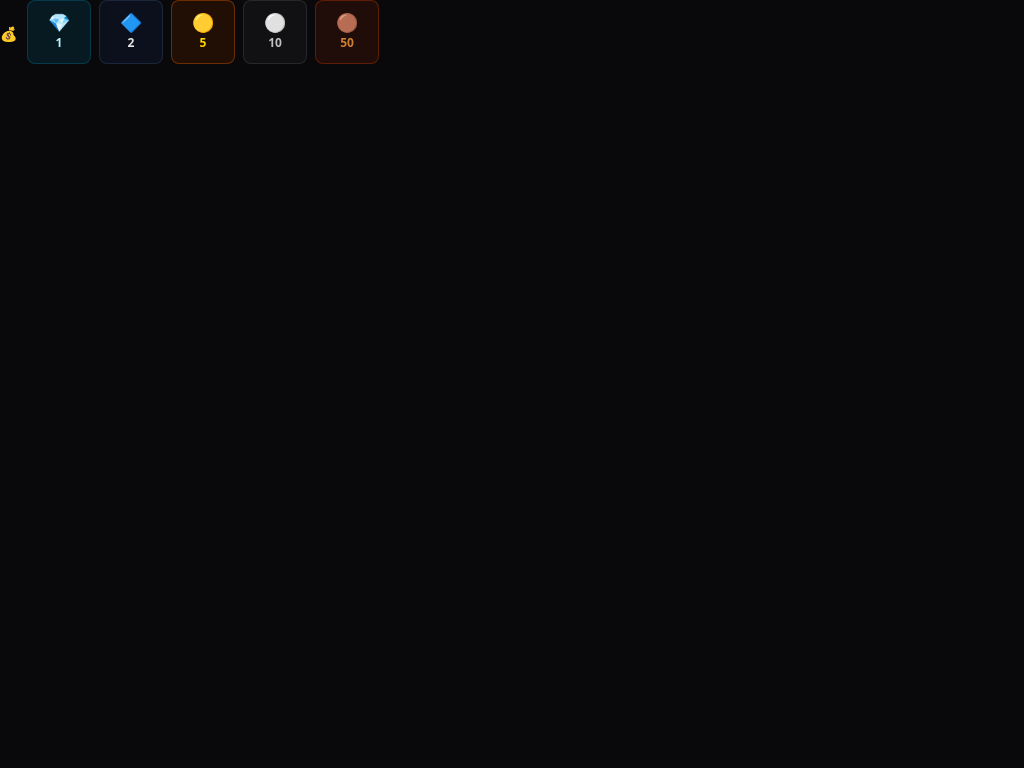
CurrencyPouch › opens the conversion dialog when a balance is clicked
What coordinates should you click on to do the following:
click the button named "Ouro: 5"
I would click on:
 (203, 32)
Its box is [171,0,235,64].
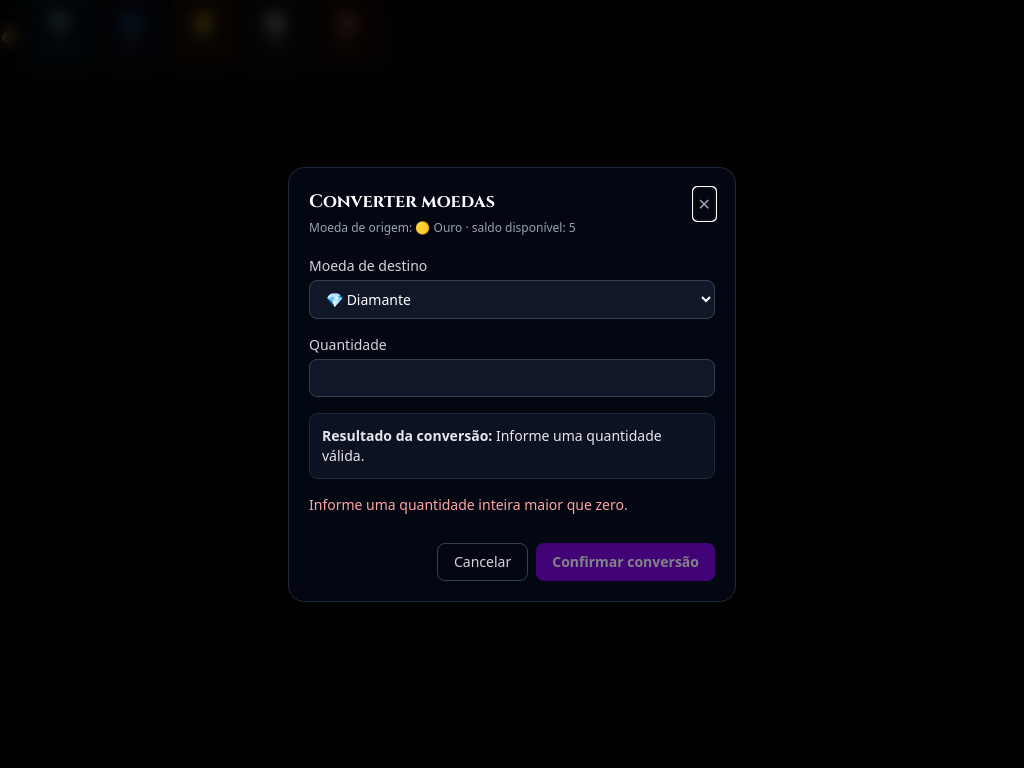
Expected: the dialog is shown, [288,166,736,602]
Expected: the heading "Converter moedas" is shown, [309,188,495,214]
